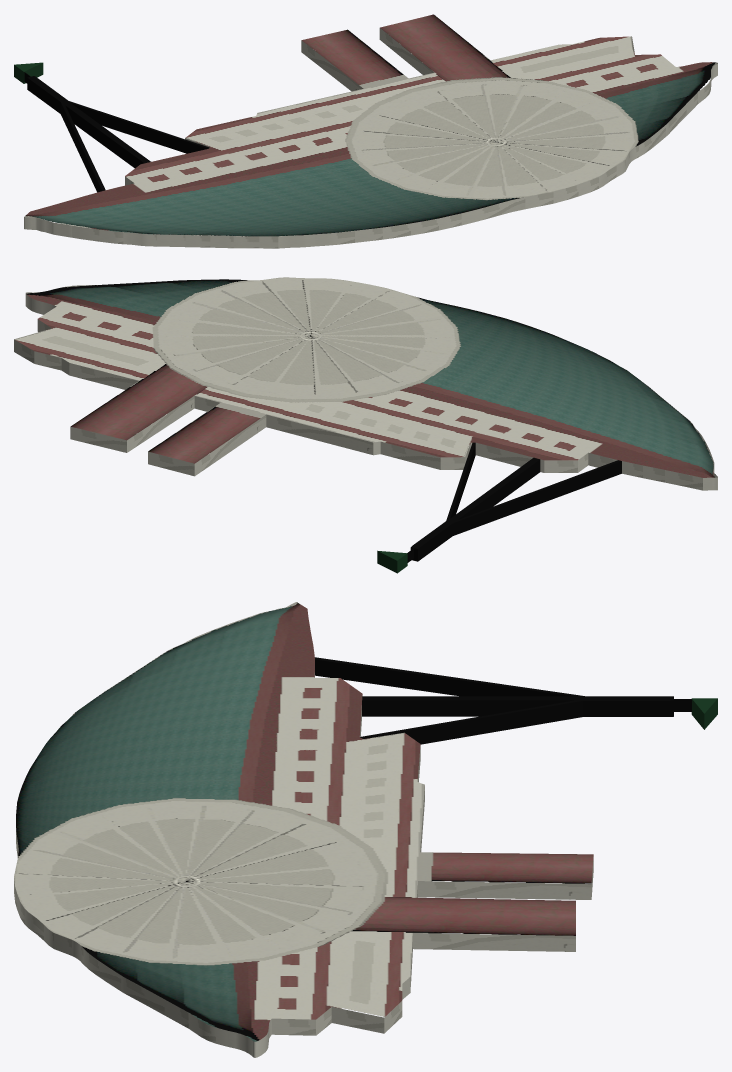
File: flatboat.obj
3 views of the same model, one above another, from view 1: azimuth 30°, elevation 25°; view 2: azimuth 150°, elevation 25°; view 3: azimuth 270°, elevation 25° (orthographic). The views are drawn at different scales.
Parts seen in each view (by area): view 1: polySurface2; view 2: polySurface2; view 3: polySurface2.
Boxes of the visible parts, x1,y1,x2,y2 form: polySurface2: [14, 14, 717, 248]; polySurface2: [14, 277, 717, 573]; polySurface2: [14, 602, 717, 1057].
Bounding box in the file's own units: 5.25 × 0.0899 × 3.55.
3 materials, 1 textured.
